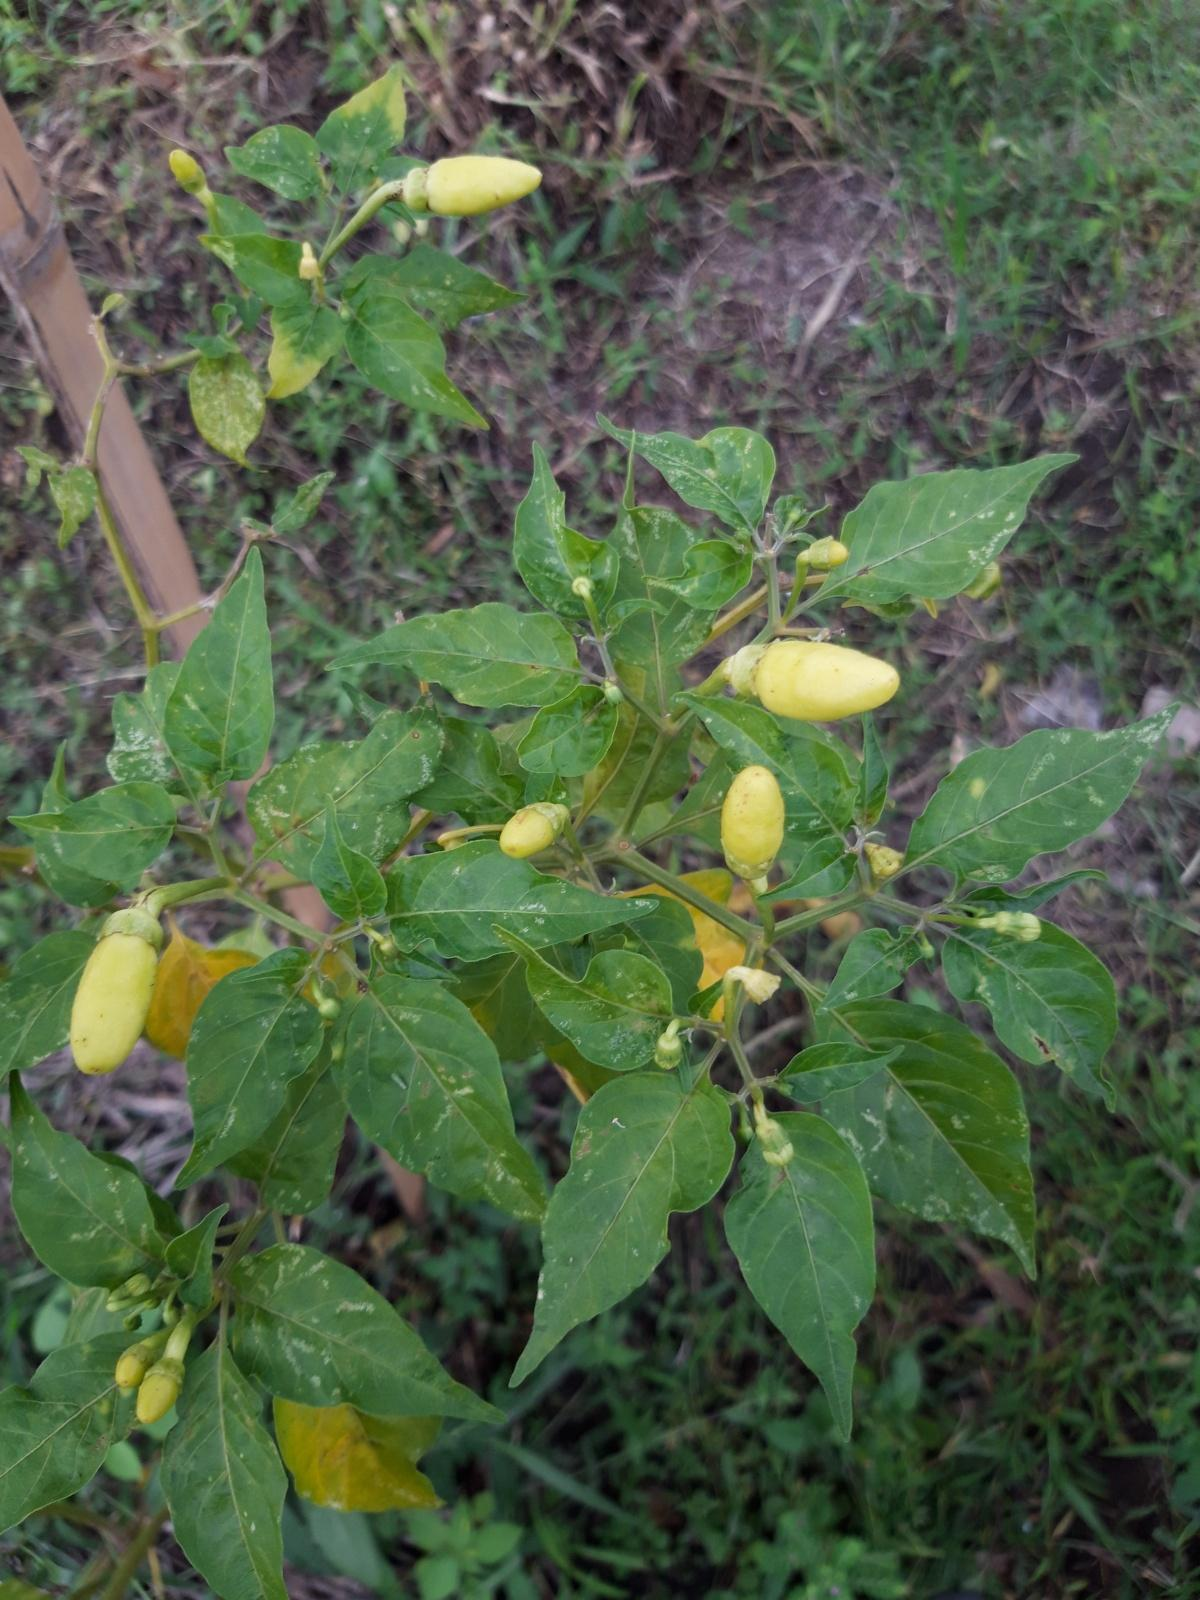cabai_normal: (69, 934, 155, 1072), (758, 643, 900, 721), (426, 155, 542, 218), (721, 765, 783, 872), (498, 810, 566, 857), (136, 1373, 182, 1422)
